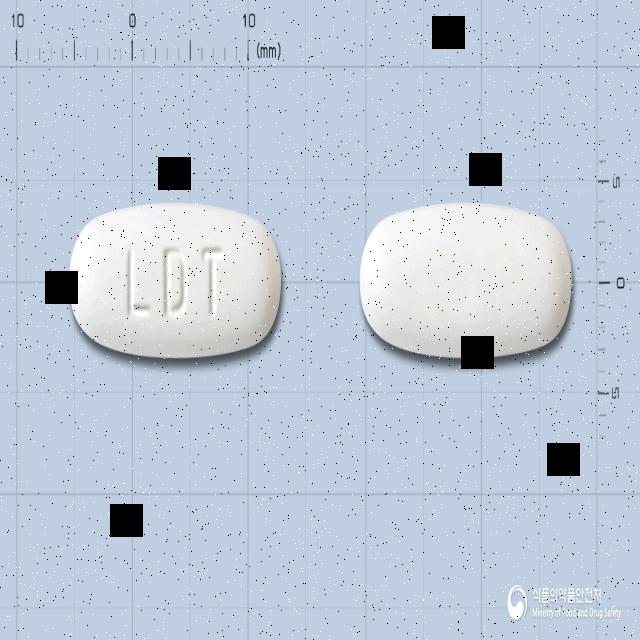Sebivo Tab: (69, 201, 284, 361)
